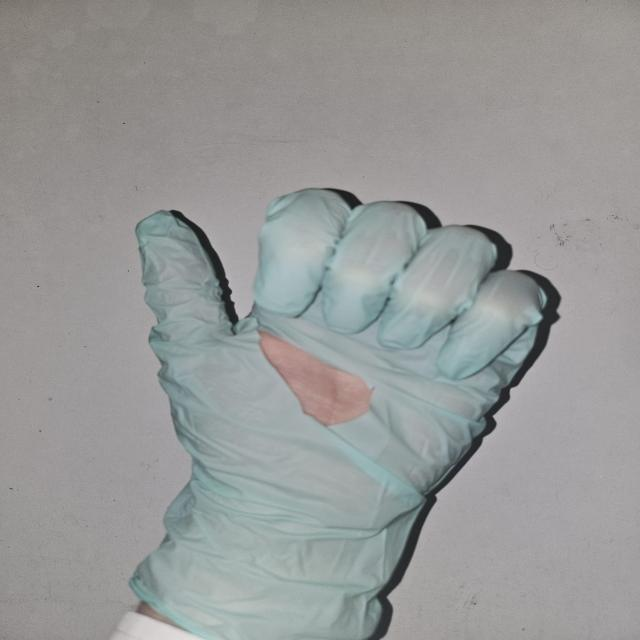gloves_damaged: (125, 186, 556, 640)
